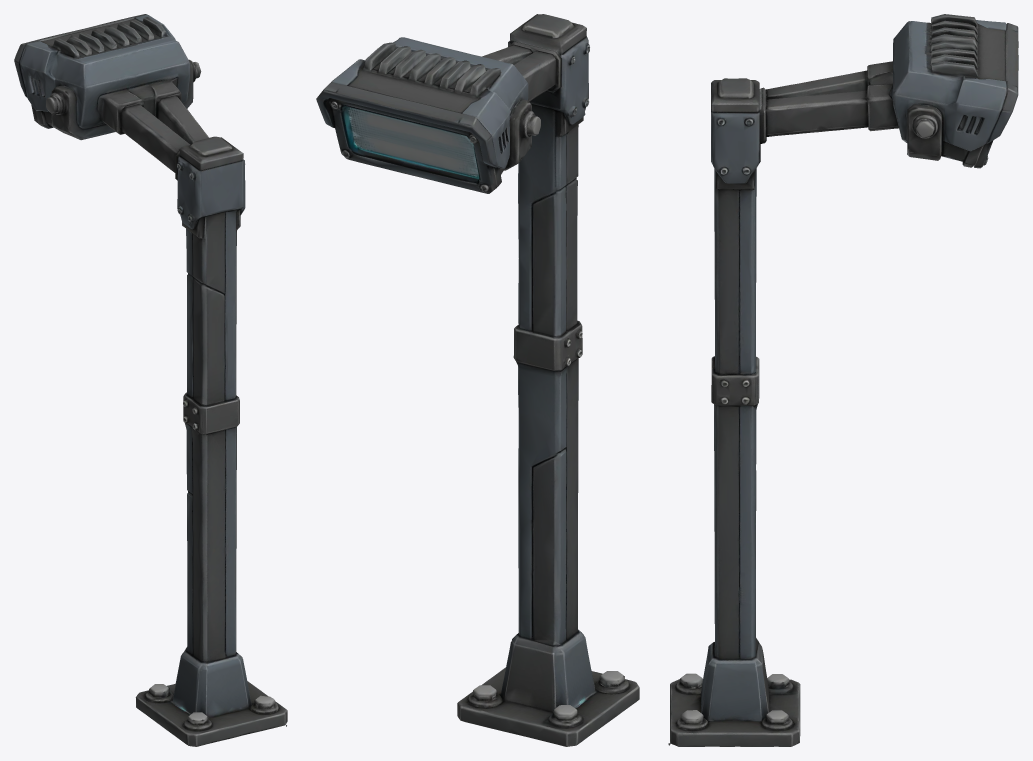
File: lamp.glb
3 renders of one model, left to right at view 1: azimuth 30°, elevation 25°; view 2: azimuth 150°, elevation 25°; view 3: azimuth 270°, elevation 25°, orthographic. The views are drawn at different scales.
Visible parts, largest first — view 1: tripo_node_4bd3bdc6-c818-4622-b3a3-3fbcdf1295ce; view 2: tripo_node_4bd3bdc6-c818-4622-b3a3-3fbcdf1295ce; view 3: tripo_node_4bd3bdc6-c818-4622-b3a3-3fbcdf1295ce.
Part boxes in pixels (x1,y1,x2,y2): tripo_node_4bd3bdc6-c818-4622-b3a3-3fbcdf1295ce: (14,14,287,746); tripo_node_4bd3bdc6-c818-4622-b3a3-3fbcdf1295ce: (316,14,639,746); tripo_node_4bd3bdc6-c818-4622-b3a3-3fbcdf1295ce: (668,14,1018,746).
Bounding box in the file's own units: 0.2507 × 0.9807 × 0.4571.
1 material, 1 textured.
